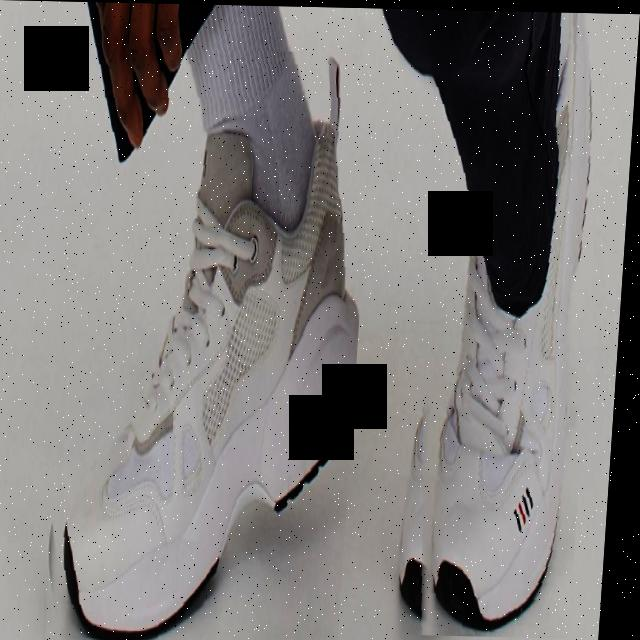shoe: (37, 46, 378, 640), (393, 7, 610, 636)
